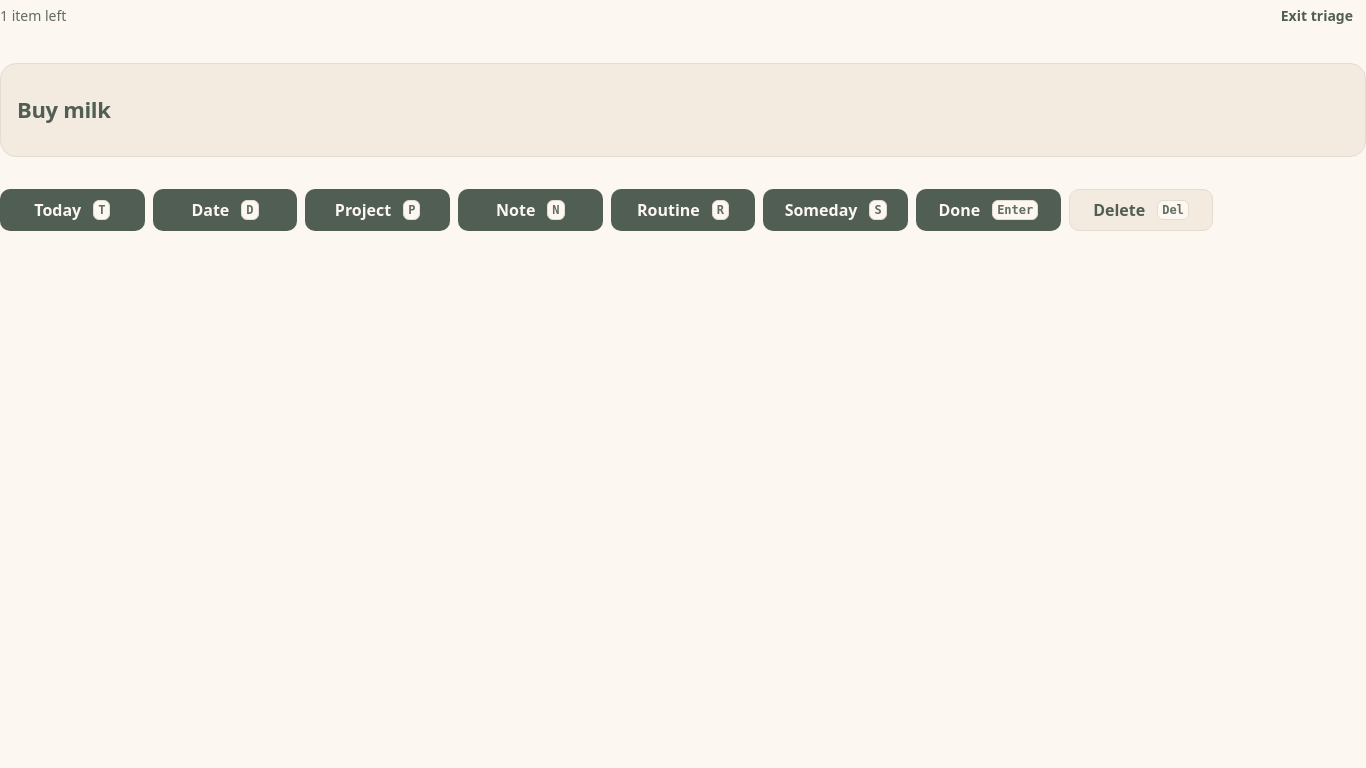
Test: TriageView › project sheet: shows "No projects yet." when there are none
Click the button "Project P" at (378, 210), box [305, 188, 450, 230]
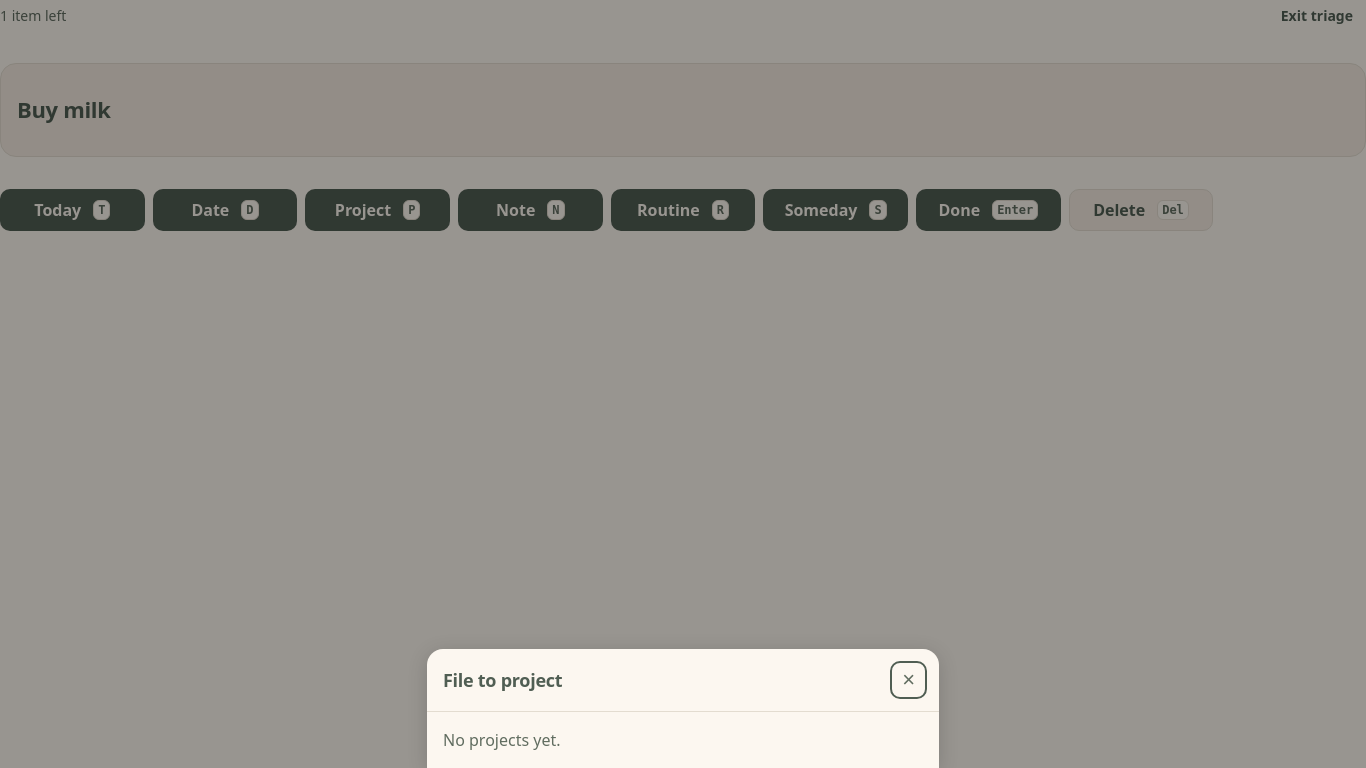
Check: the text "No projects yet." is shown, box [443, 729, 560, 751]
